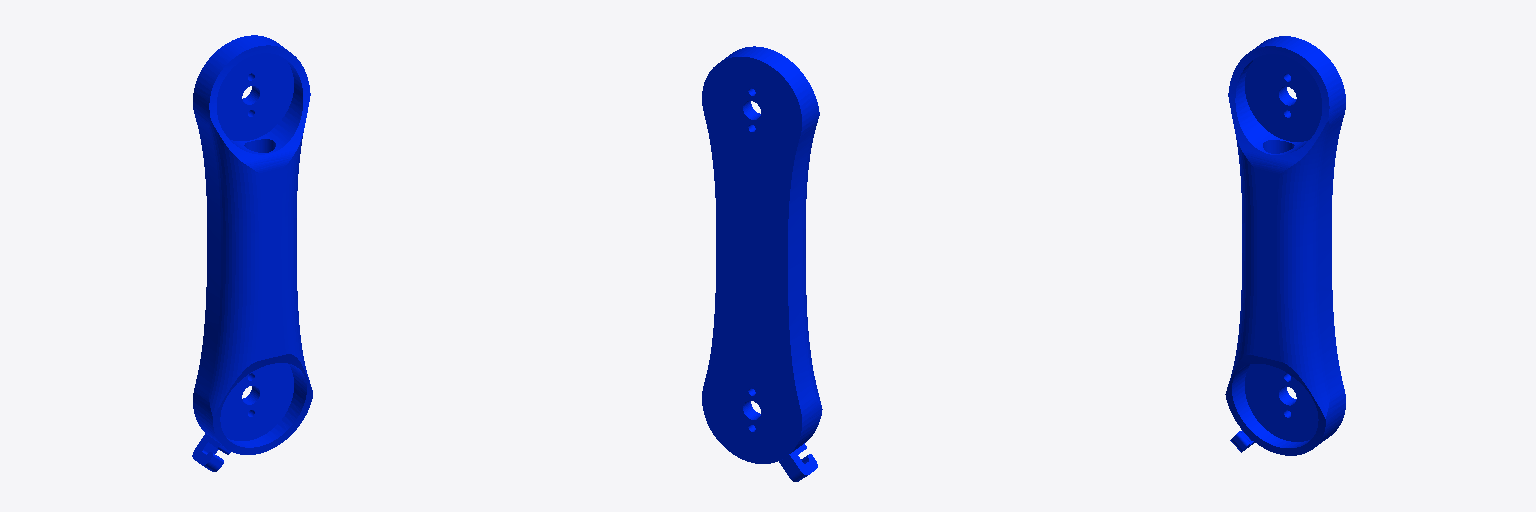
The model's file is arm_01_obj.obj.
3 renders of one model, left to right at view 1: azimuth 30°, elevation 25°; view 2: azimuth 150°, elevation 25°; view 3: azimuth 330°, elevation 25°, orthographic.
Parts seen in each view (by area): view 1: arm_01; view 2: arm_01; view 3: arm_01.
Boxes of the visible parts, <box> form: arm_01: <box>192,35,312,471</box>; arm_01: <box>702,46,822,481</box>; arm_01: <box>1225,36,1345,455</box>.
Bounding box in the file's own units: 0.267 × 1.03 × 0.1297.